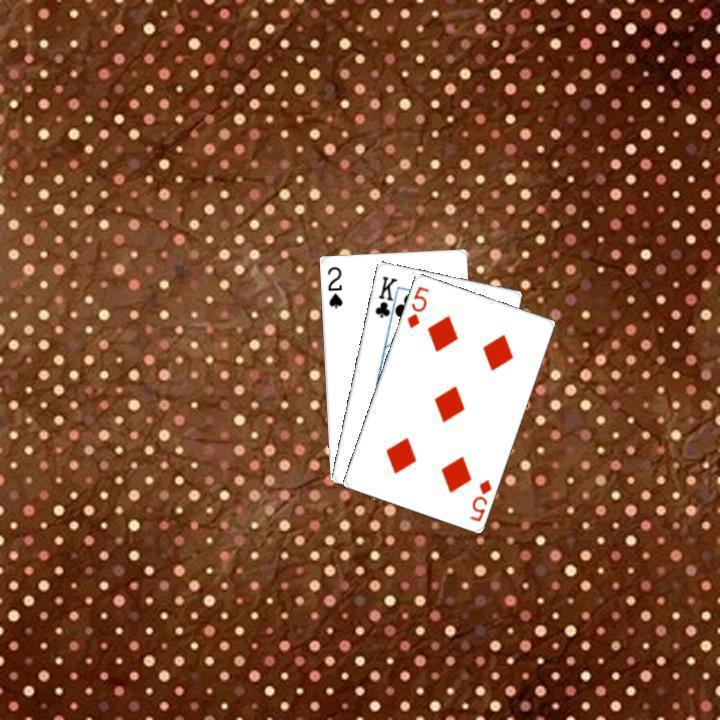2: (323, 262, 344, 310)
5: (402, 281, 431, 330), (465, 475, 494, 523)
K: (370, 271, 402, 326)
